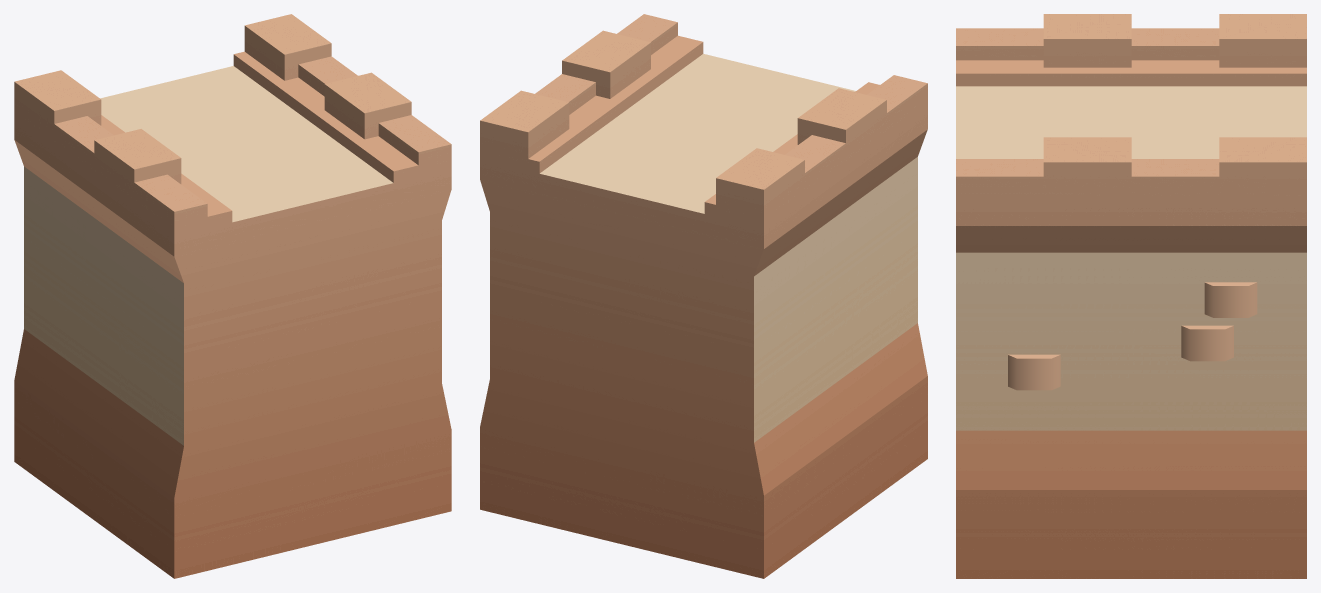
The model's file is wall.glb.
3 views of the same model, side by side, from view 1: azimuth 30°, elevation 25°; view 2: azimuth 150°, elevation 25°; view 3: azimuth 270°, elevation 25° (orthographic). The views are drawn at different scales.
Visible parts, largest first — view 1: wall; view 2: wall; view 3: wall.
Part boxes in pixels (<box>): wall: <box>14,14,451,578</box>; wall: <box>480,14,927,578</box>; wall: <box>956,14,1306,578</box>.
Size of the model in its own units: 1 by 1.31 by 1.
Materials: 1 (1 with a texture image).
